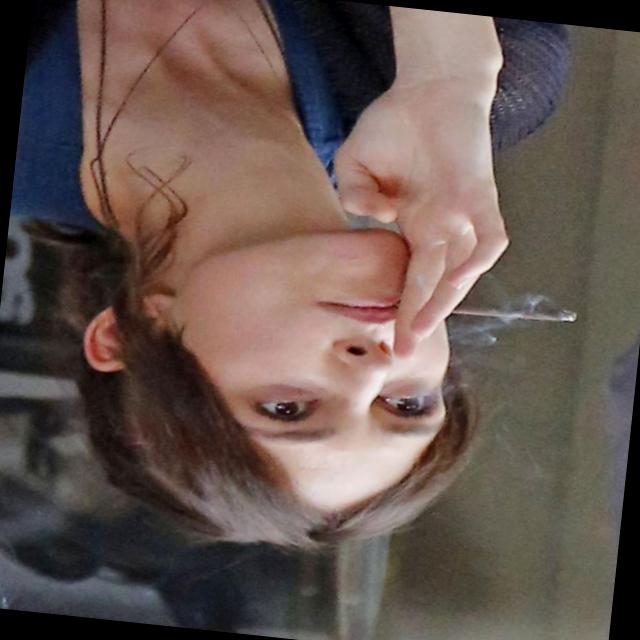cigarette: (383, 266, 607, 346)
